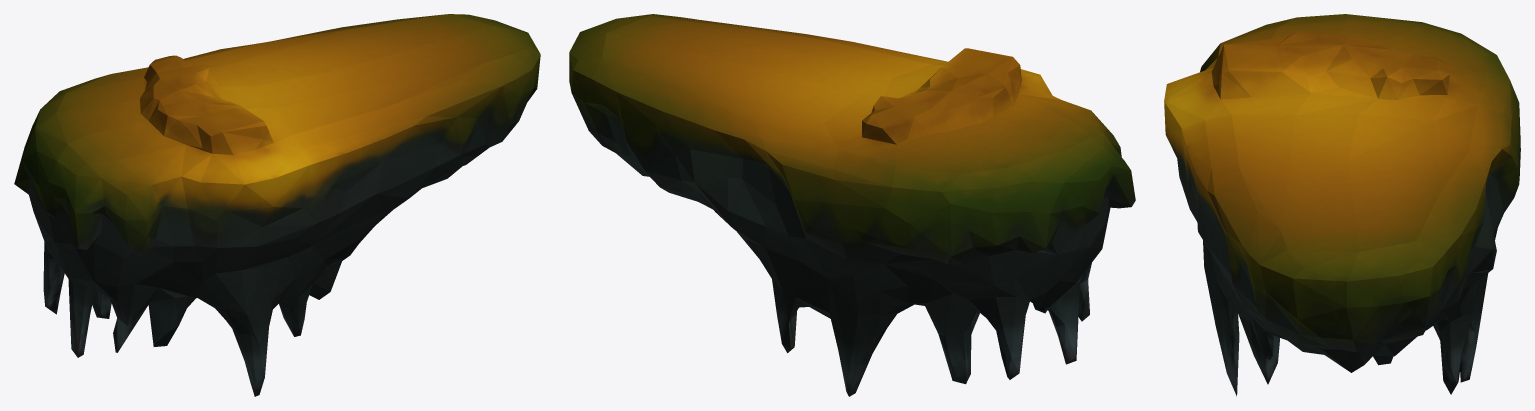
3 views of the same model, side by side, from view 1: azimuth 30°, elevation 25°; view 2: azimuth 150°, elevation 25°; view 3: azimuth 270°, elevation 25° (orthographic). The views are drawn at different scales.
Visible parts, largest first — view 1: geometry_0.002_Baked; view 2: geometry_0.002_Baked; view 3: geometry_0.002_Baked.
Boxes of the visible parts, box(x1,y1,x2,y2) form: geometry_0.002_Baked: box(14, 14, 540, 396); geometry_0.002_Baked: box(569, 14, 1135, 396); geometry_0.002_Baked: box(1164, 14, 1520, 396).
Size of the model in its own units: 29.25 by 16.07 by 15.63.
